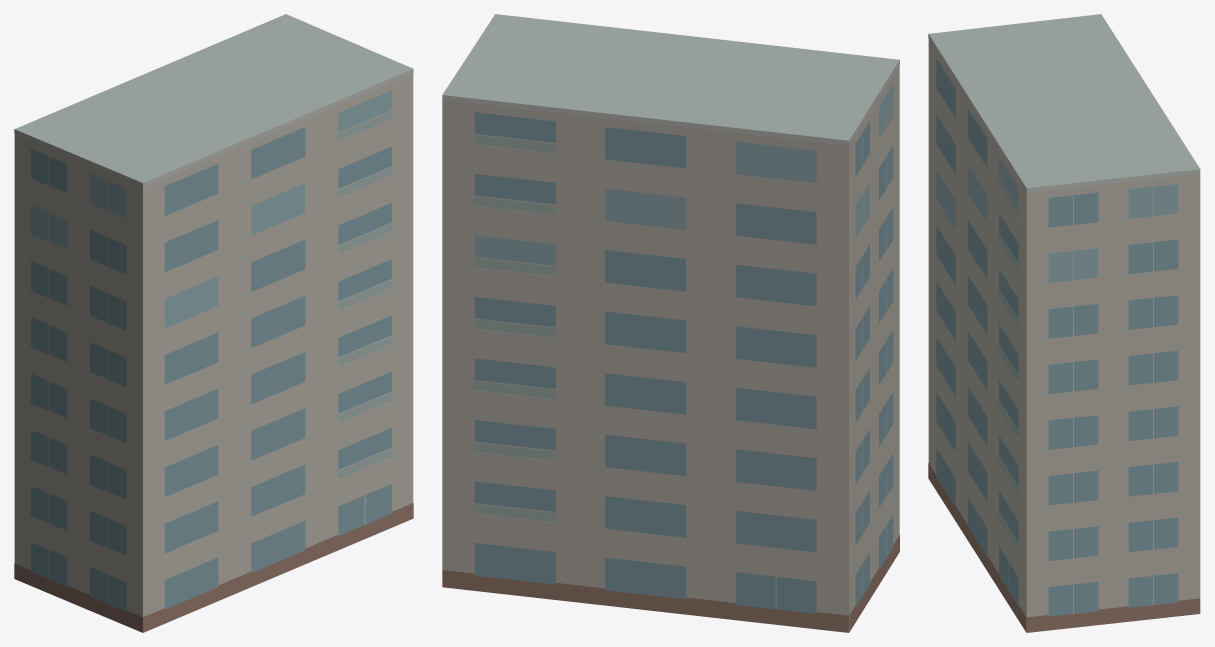
File: survey-upis-32562099.glb
The picture shows the model from 3 angles, left to right: view 1: azimuth 30°, elevation 25°; view 2: azimuth 150°, elevation 25°; view 3: azimuth 270°, elevation 25°; orthographic projection. The views are drawn at different scales.
Visible parts, largest first — view 1: survey-upis-32562099.tmp; view 2: survey-upis-32562099.tmp; view 3: survey-upis-32562099.tmp.
Boxes of the visible parts, x1=… form: survey-upis-32562099.tmp: x1=14, y1=14, x2=413, y2=632; survey-upis-32562099.tmp: x1=442, y1=14, x2=899, y2=632; survey-upis-32562099.tmp: x1=928, y1=14, x2=1200, y2=632.
Bounding box in the file's own units: 20.51 × 24.4 × 13.53.
